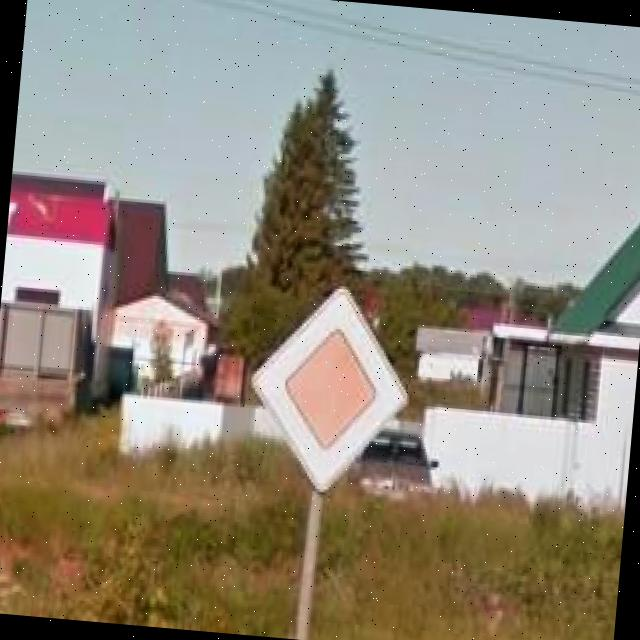Droga z pierwszenstwem: (242, 278, 418, 502)
